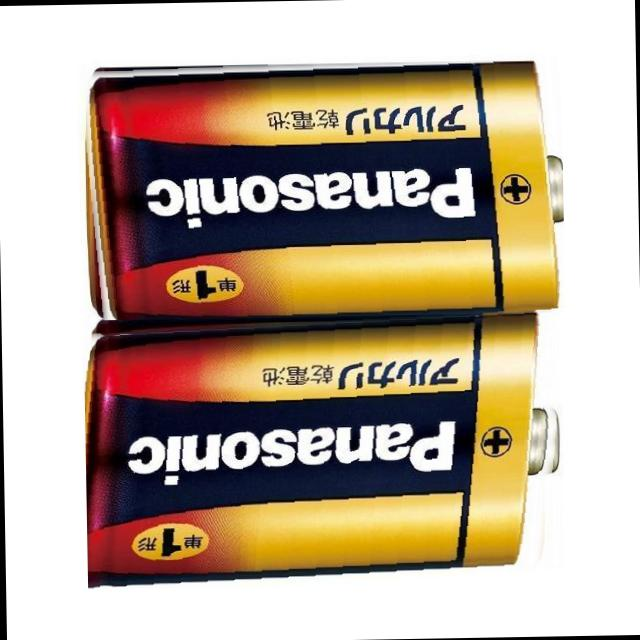Hazard: (81, 308, 568, 590), (77, 53, 563, 320)
